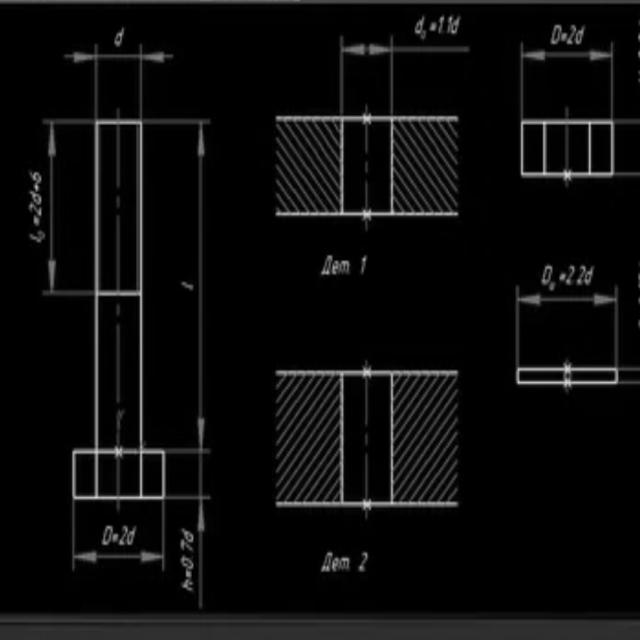marking_line: (169, 113, 217, 612), (145, 109, 214, 448), (168, 116, 212, 455), (336, 35, 472, 113), (40, 117, 94, 297), (515, 283, 621, 365), (64, 46, 176, 118), (518, 40, 616, 118), (70, 502, 170, 575), (167, 492, 213, 610)
numeric: (357, 251, 369, 278), (357, 549, 368, 574), (179, 556, 196, 572), (118, 525, 129, 549), (564, 264, 575, 287), (29, 169, 43, 185), (436, 14, 445, 38), (28, 204, 42, 219), (180, 538, 194, 553), (553, 22, 562, 45), (577, 262, 585, 286), (542, 264, 551, 285), (569, 23, 577, 45), (447, 16, 452, 34)
